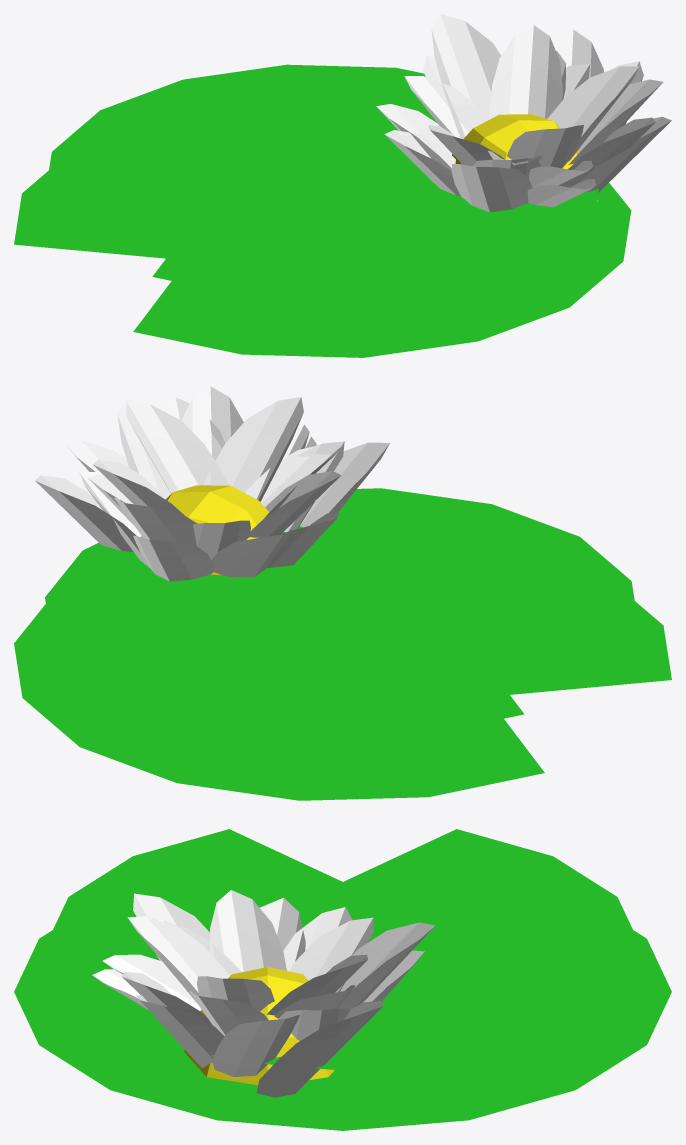
The model's file is Lillypad Flower.fbx.
The picture shows the model from 3 angles, top to bottom: view 1: azimuth 30°, elevation 25°; view 2: azimuth 150°, elevation 25°; view 3: azimuth 270°, elevation 25°; orthographic projection. The views are drawn at different scales.
Visible parts, largest first — view 1: Lillypad Flower; view 2: Lillypad Flower; view 3: Lillypad Flower.
Part boxes in pixels (box(x1,y1,x2,y2)): Lillypad Flower: box(14, 14, 671, 357); Lillypad Flower: box(14, 386, 671, 800); Lillypad Flower: box(14, 829, 671, 1130).
Bounding box in the file's own units: 46.48 × 11.8 × 46.53.
